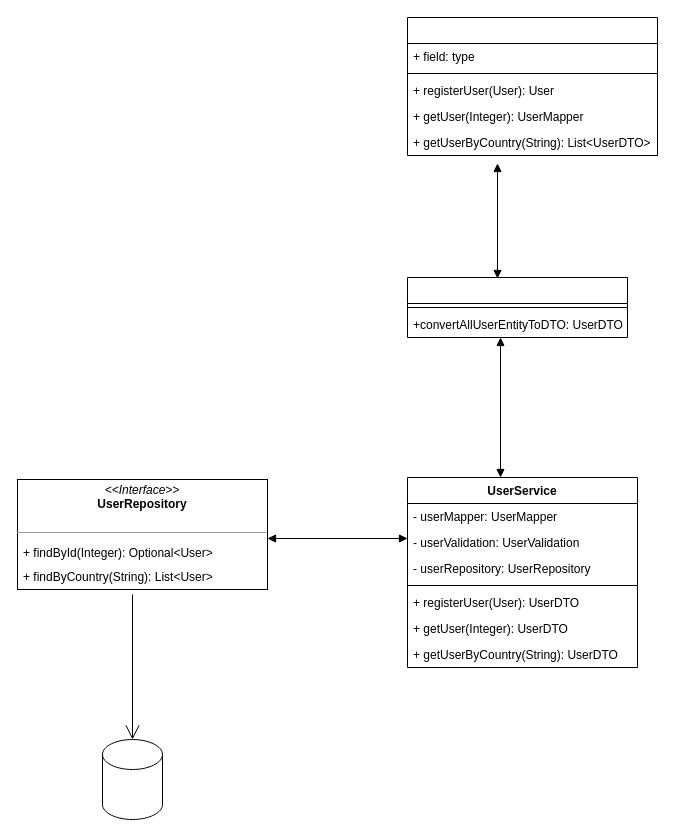
The diagram is 675 pixels wide and 837 high, and some of its shapes have lost their labels. The box of each missing label's shape, as (x1, y1, x2, y2) in pixels:
DTOMapper: (406, 276, 628, 338)
UserController: (406, 16, 658, 156)
